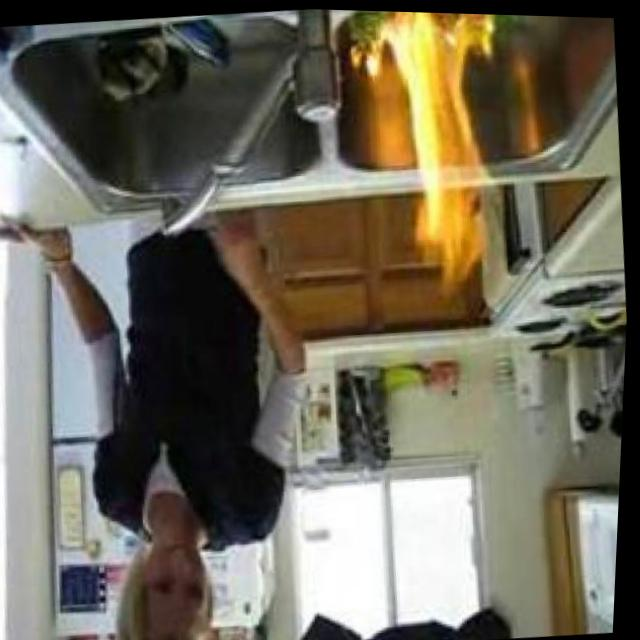Fire: (352, 8, 517, 304)
